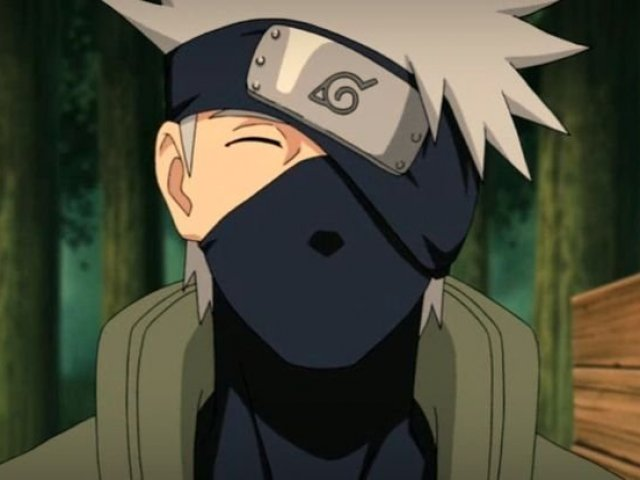kakashi: (154, 16, 484, 377)
